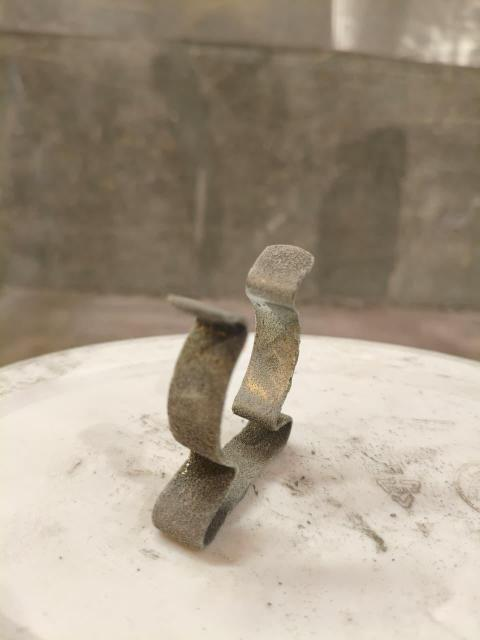Metal: (163, 242, 312, 540)
